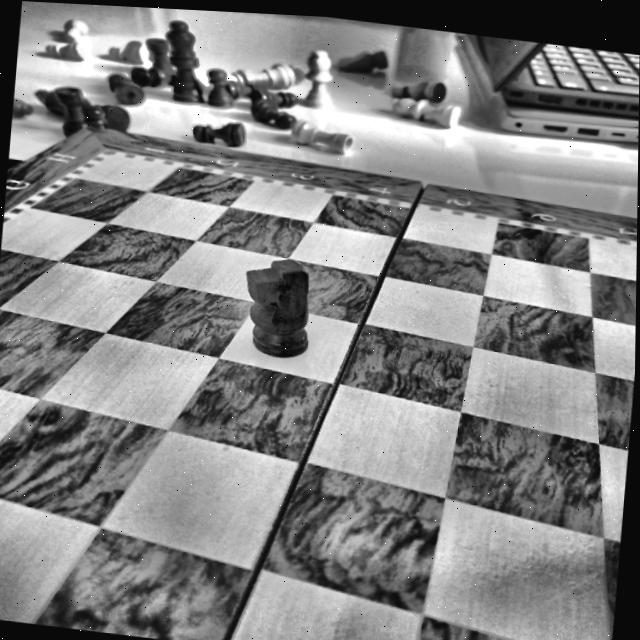black-knight: (237, 244, 318, 367)
